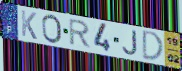4: (92, 21, 114, 55)
D: (142, 29, 165, 62)
J: (122, 30, 139, 57)
K: (20, 9, 38, 41)
O: (41, 13, 63, 45)
R: (68, 18, 93, 50)
